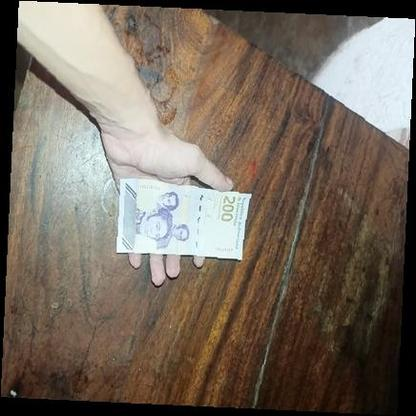two_hundred-front-vef: (114, 178, 252, 259)
